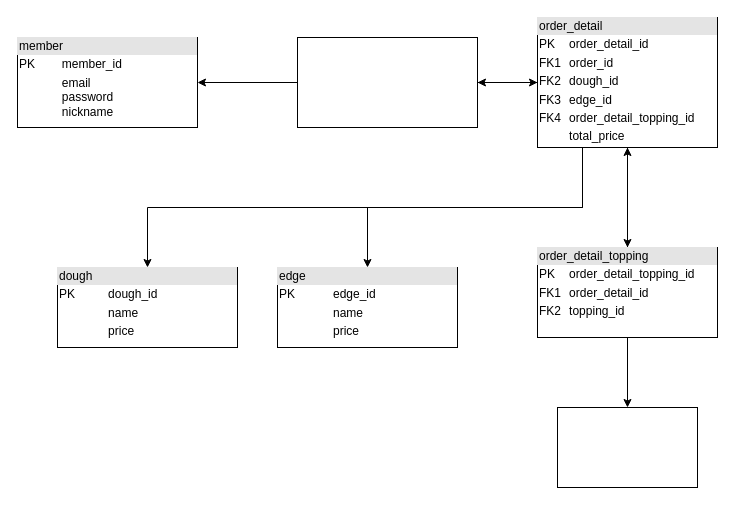
Image size: 735x505. Some labels were removed from this diagram. The shapes that lost their labels are listed below. From the top down, each one's box as (x1, y1, x2, y2) in pixels, then its label:
(296, 36, 478, 128): order PK order_id FK1 member_id FK2 order_detail order_time status
(556, 406, 698, 488): topping PK topping_id name price
